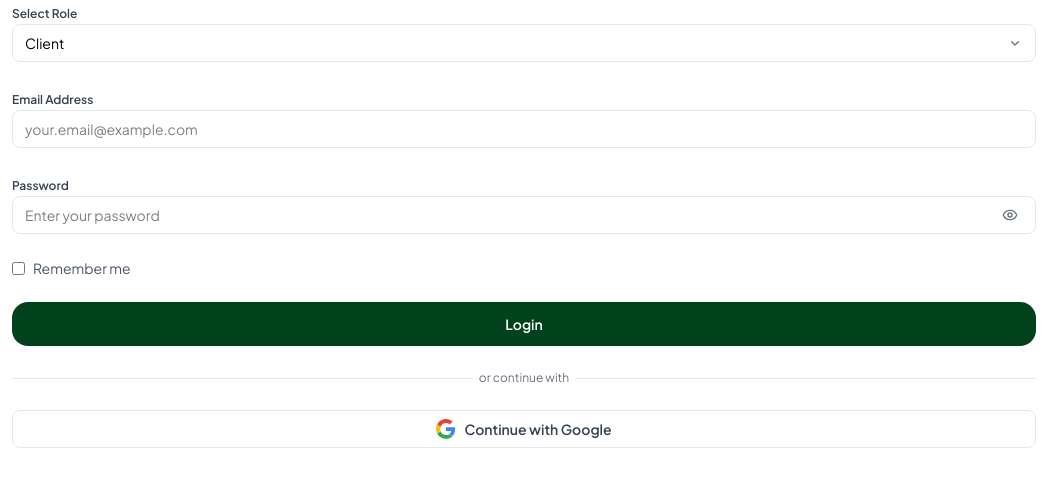
Scenario: LoginForm › shows the email required error once the password is filled
The width and height of the screenshot is (1048, 485).
# The password input is natively required, so fill it to let RHF run.
Type "Passw0rd!" into the password field labelled "Password" at (524, 215), box [12,196,1036,234]
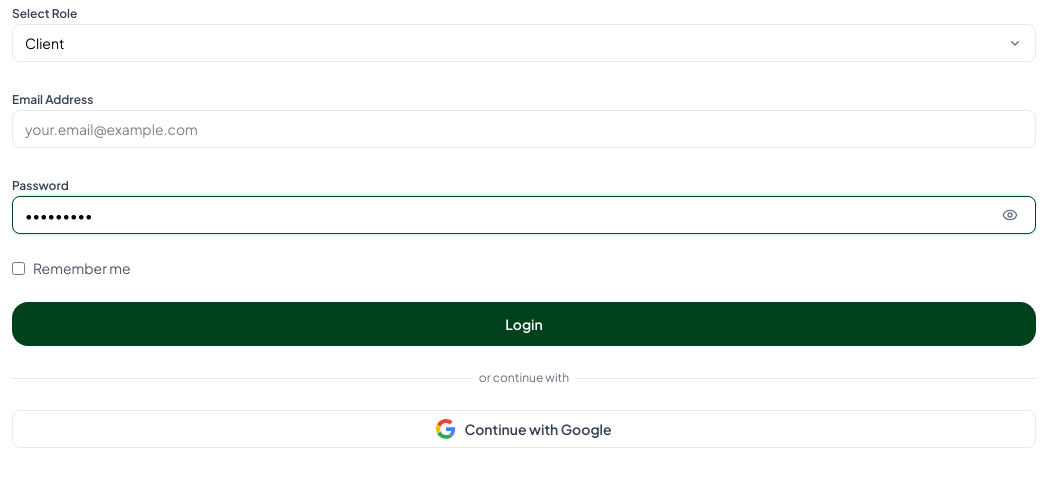
Click the button "Login" at (524, 324), box [12,302,1036,346]
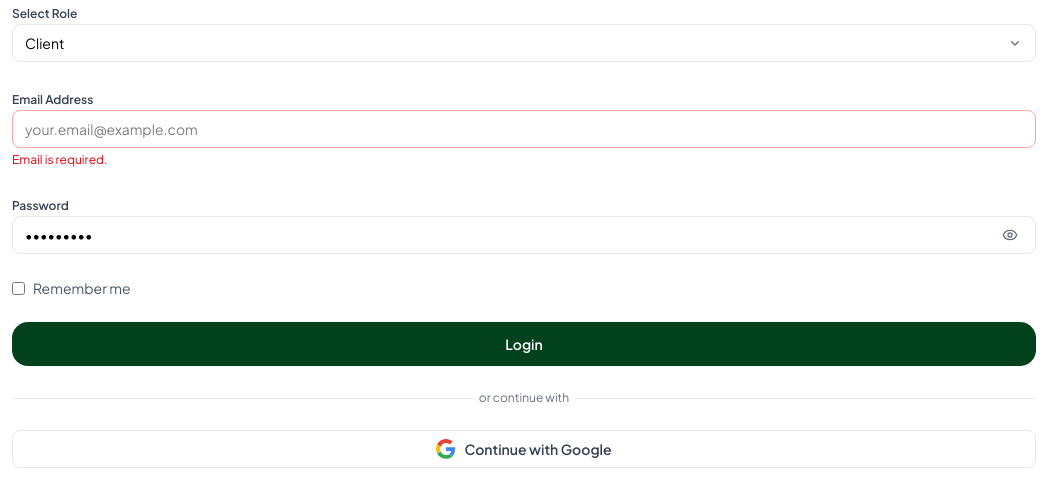
Expected: the text "Email is required." is shown, [12,152,108,167]
